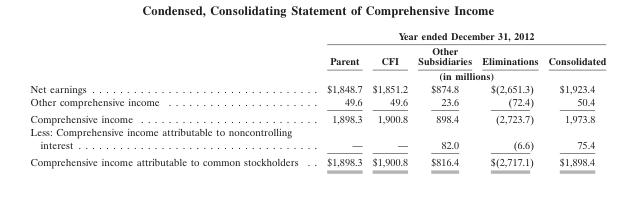table: (29, 29, 605, 167)
table column: (29, 29, 311, 167), (476, 29, 542, 167), (412, 29, 476, 167), (542, 29, 605, 167), (311, 29, 366, 167), (366, 29, 412, 167)
table column header: (29, 29, 605, 82)
table row: (29, 125, 605, 152), (29, 42, 605, 68), (29, 109, 605, 125), (29, 94, 605, 109), (29, 152, 605, 167), (29, 68, 605, 82), (29, 29, 605, 42), (29, 82, 605, 94)
table spanning cell: (311, 68, 605, 82), (311, 29, 605, 42)
